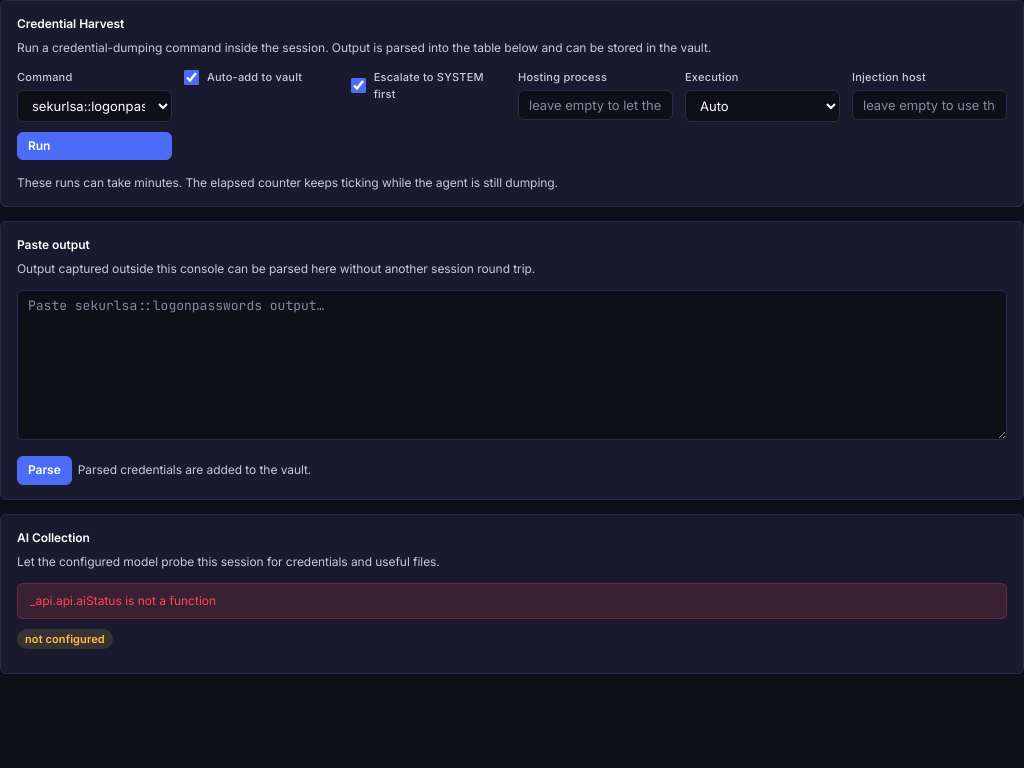
Test case: HarvestTab › parses pasted output
Type "some captured output" into the text box with placeholder "Paste sekurlsa::logonpasswords output…" at x=512, y=365, box [17, 290, 1007, 440]
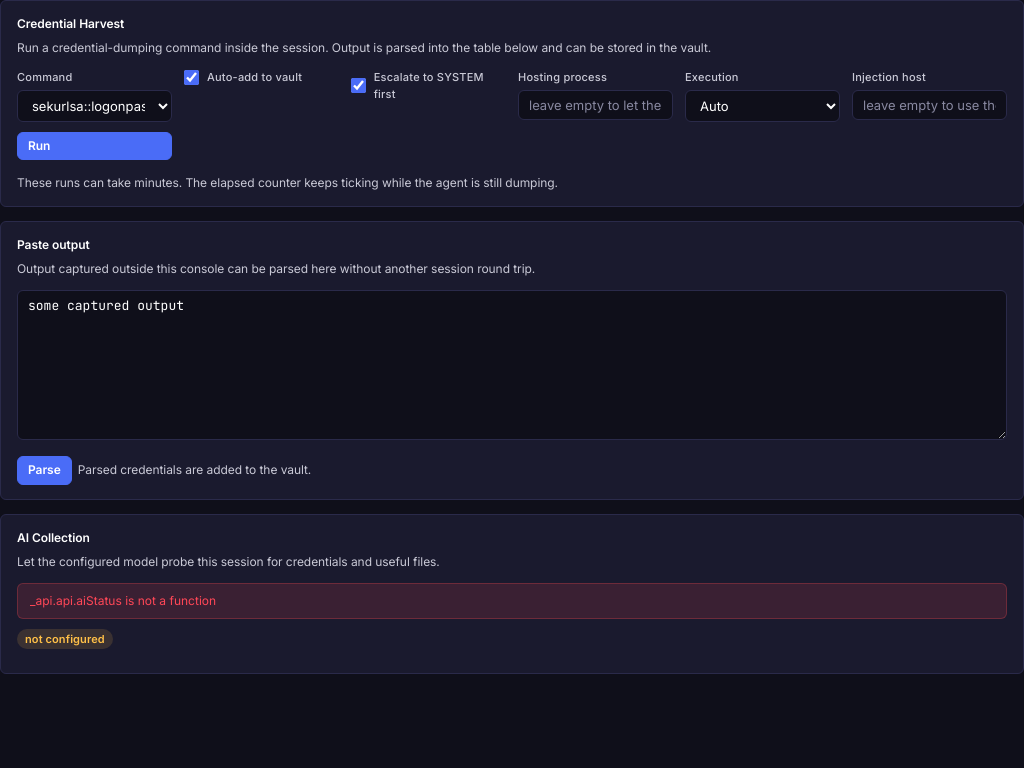
Click the button "Parse" at x=44, y=470, box [17, 456, 72, 485]
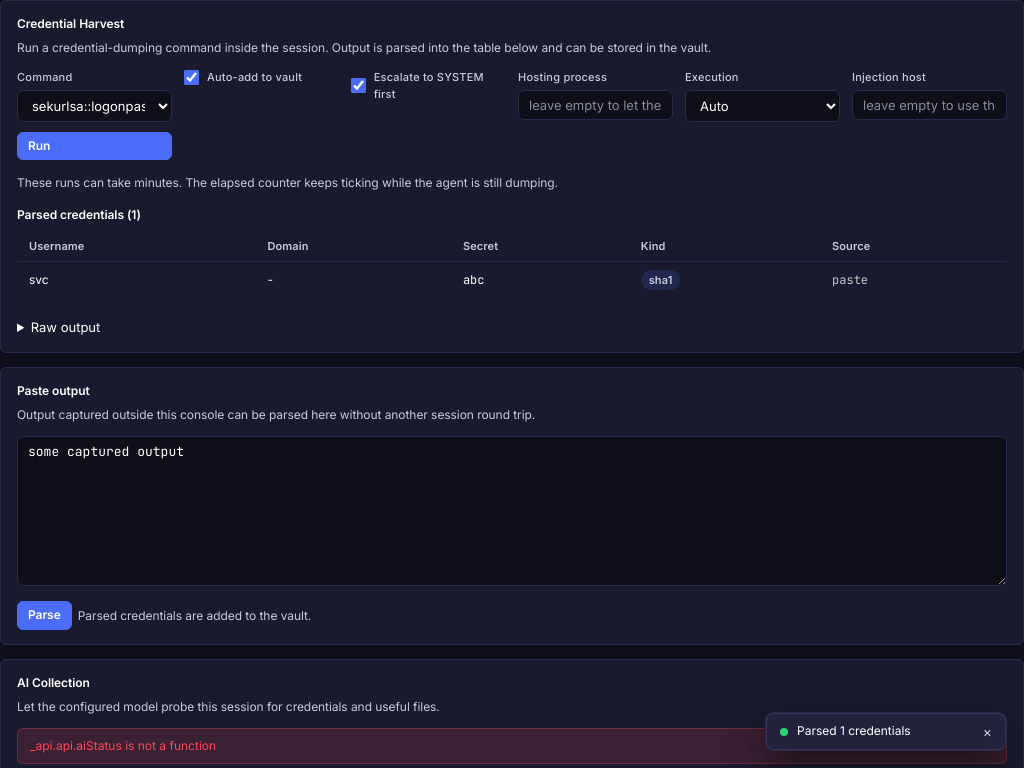
Now the text "svc" is shown, box [17, 262, 255, 298]
